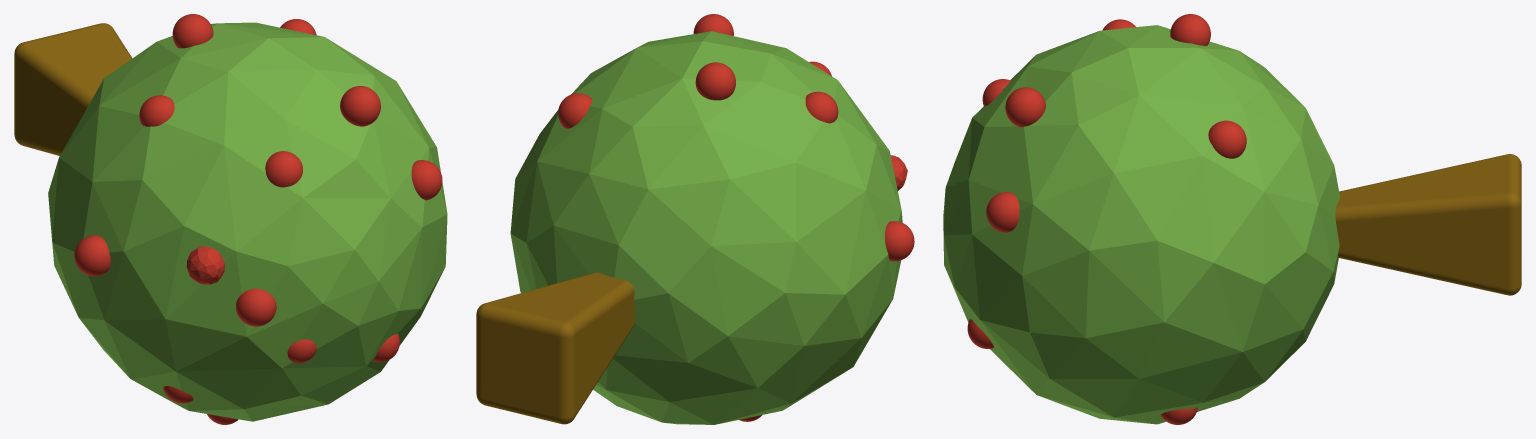
File: tree2.fbx
3 views of the same model, side by side, from view 1: azimuth 30°, elevation 25°; view 2: azimuth 150°, elevation 25°; view 3: azimuth 270°, elevation 25° (orthographic).
Visible parts, largest first — view 1: tree_head, tree_body, Body8, Body12, Body13, Body6, Body10, Body7, Body19, Body9, Body14, Body15; view 2: tree_head, tree_body, Body10, Body13, Body11, Body9, Body8; view 3: tree_head, tree_body, Body8, Body11, Body19, Body10.
Boxes of the visible parts, left/top/right/bottom form: tree_head: left=48, top=22, right=447, bottom=421; tree_body: left=14, top=23, right=132, bottom=155; Body8: left=340, top=86, right=380, bottom=126; Body12: left=236, top=288, right=276, bottom=326; Body13: left=74, top=235, right=110, bottom=276; Body6: left=186, top=246, right=224, bottom=284; Body10: left=172, top=14, right=213, bottom=48; Body7: left=265, top=151, right=302, bottom=187; Body19: left=411, top=160, right=442, bottom=200; Body9: left=139, top=95, right=174, bottom=126; Body14: left=287, top=339, right=316, bottom=363; Body15: left=373, top=334, right=399, bottom=362; tree_head: left=510, top=31, right=902, bottom=424; tree_body: left=476, top=272, right=635, bottom=424; Body10: left=695, top=62, right=735, bottom=100; Body13: left=885, top=221, right=914, bottom=261; Body11: left=558, top=93, right=592, bottom=128; Body9: left=805, top=91, right=838, bottom=123; Body8: left=693, top=14, right=733, bottom=35; tree_head: left=943, top=25, right=1339, bottom=424; tree_body: left=1335, top=154, right=1521, bottom=295; Body8: left=1005, top=87, right=1045, bottom=127; Body11: left=1208, top=120, right=1246, bottom=158; Body19: left=986, top=192, right=1019, bottom=232; Body10: left=1170, top=14, right=1210, bottom=45.
Bounding box in the file's own units: 71.76 × 72.43 × 99.25.
